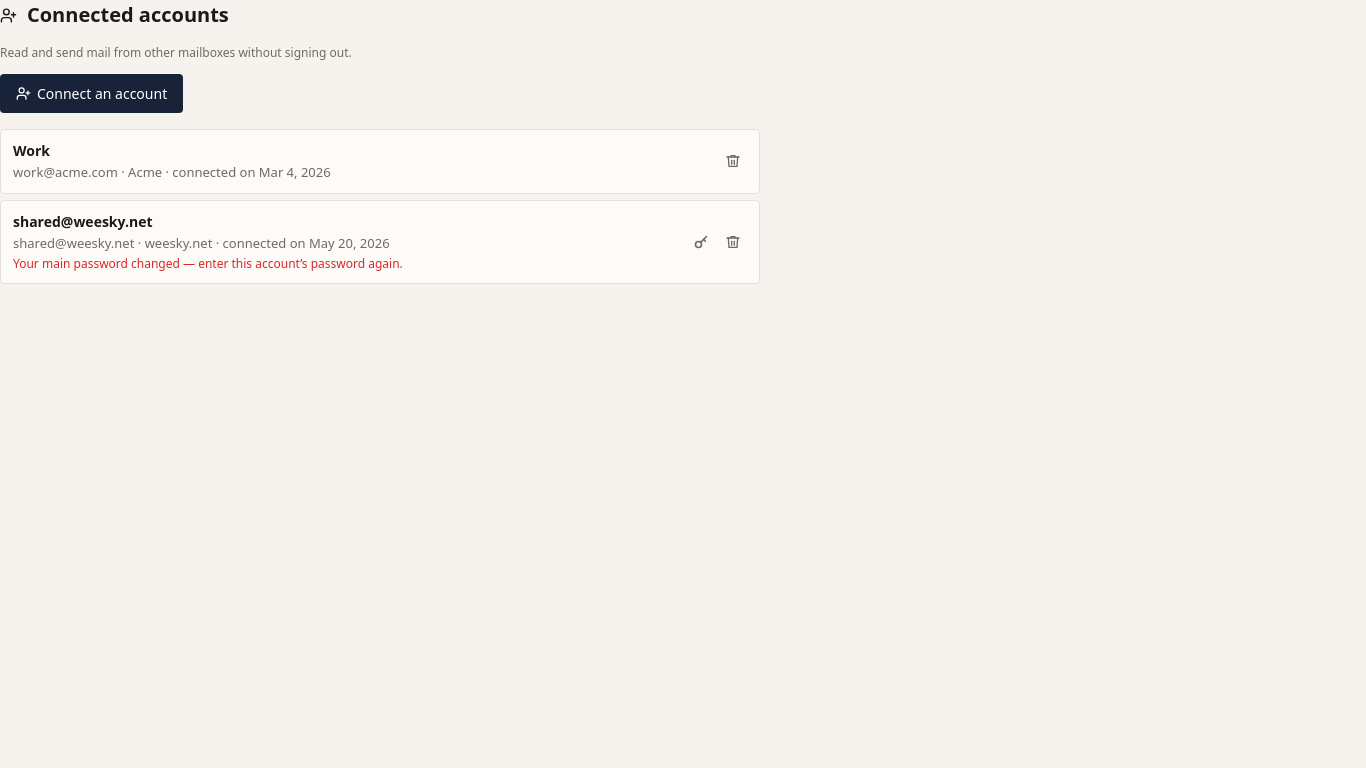
Test case: ConnectedAccountsPage › gives a vanished account a sentence instead of the backend code
Expected: the text "Work" is shown, 13,141 -> 50,160
Step 1. Click the button named "Re-enter the password for shared@weesky.net" → [701, 242], box 687,228 -> 715,256
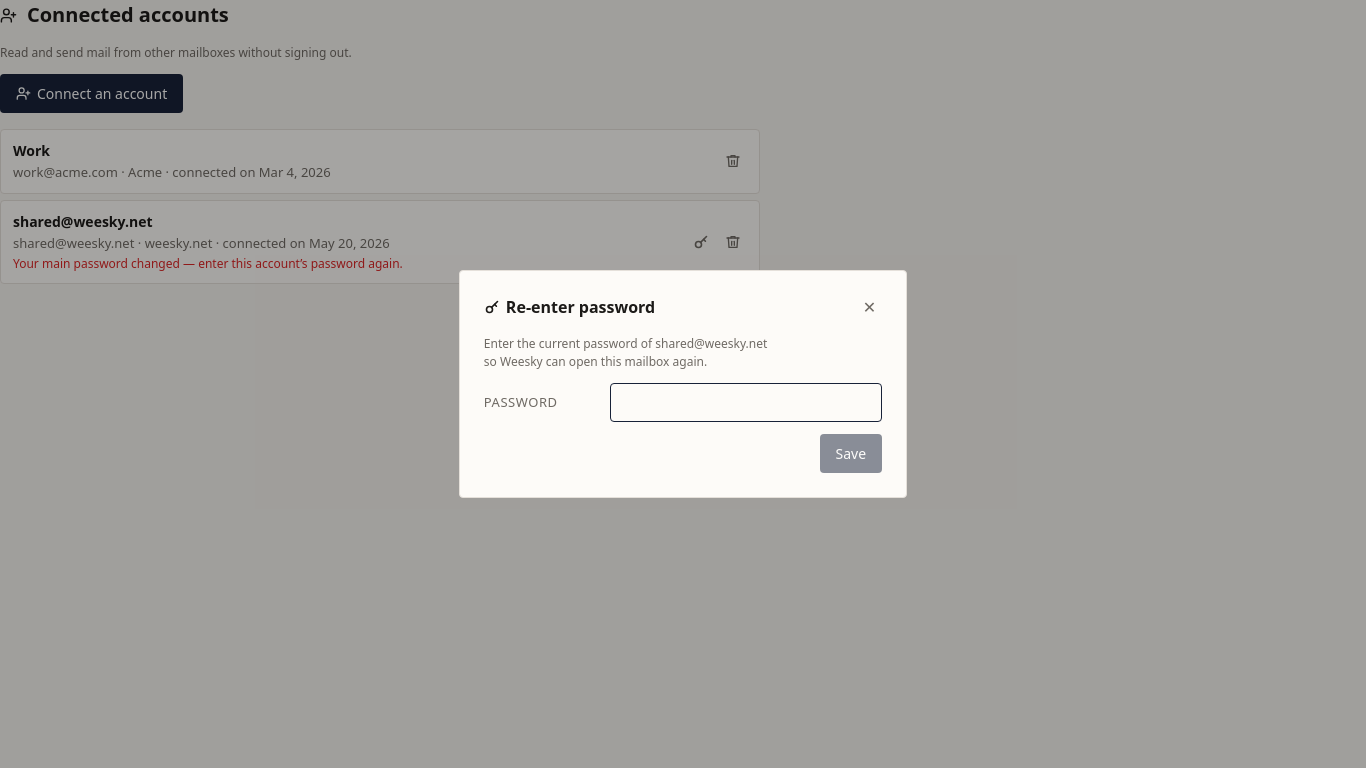
Step 2. Type "anything" into the password field labelled "Password" → [746, 402], box 610,383 -> 882,422
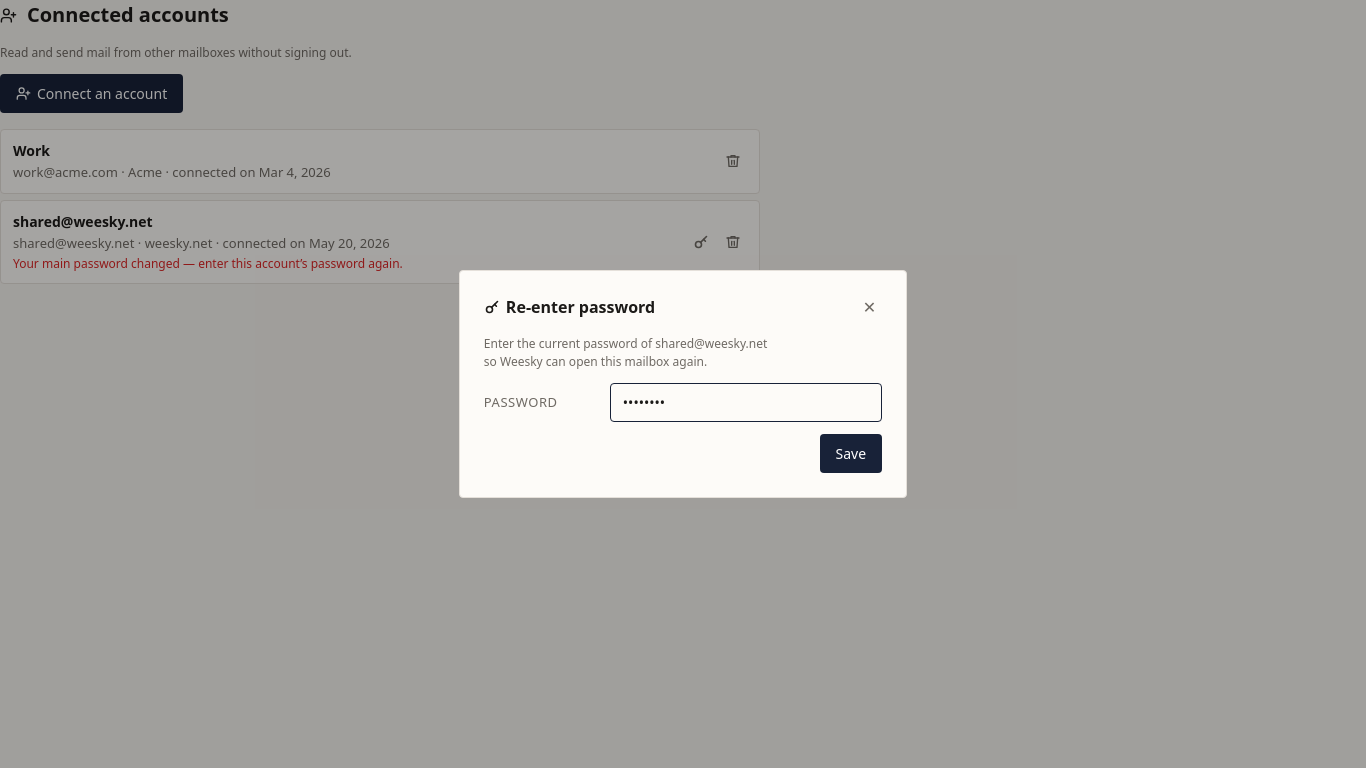
Step 3. Click the button "Save" → [851, 454], box 820,434 -> 882,473
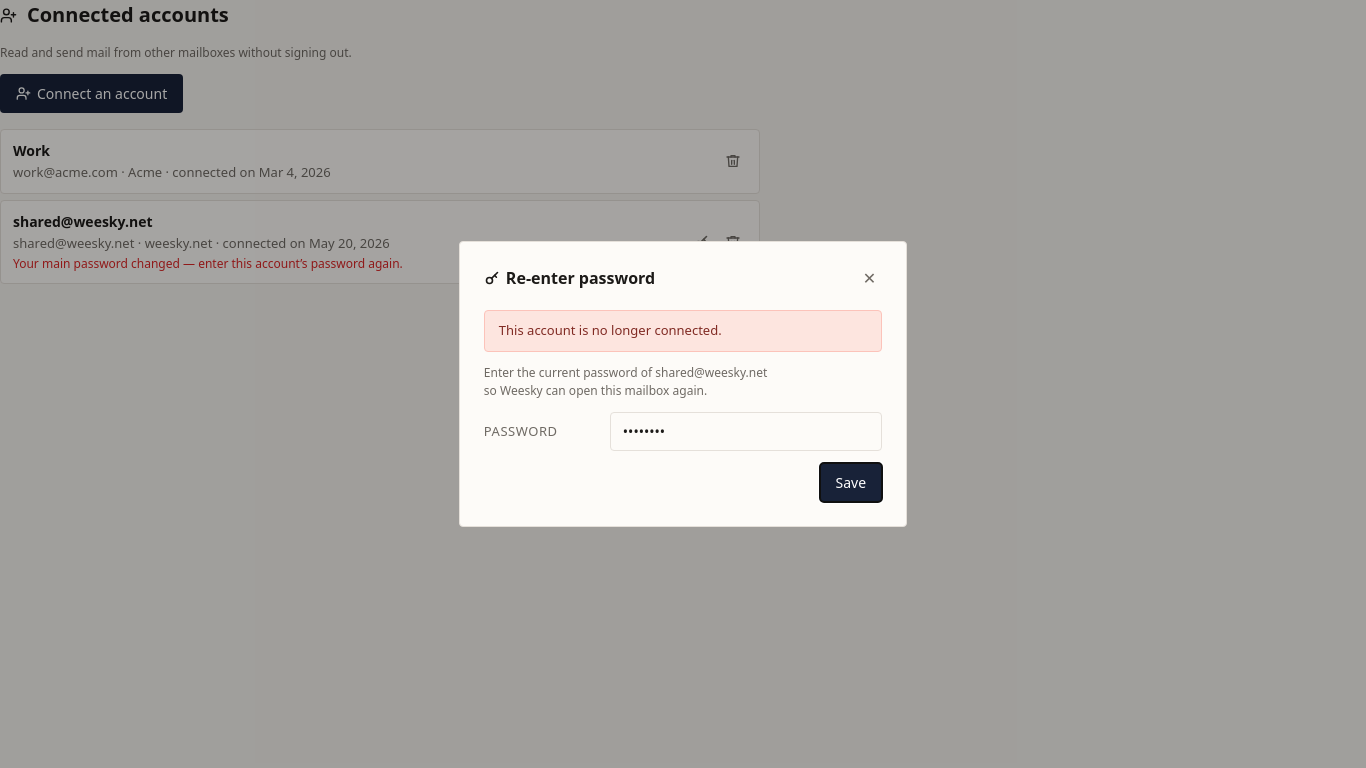
Now the message reads "This account is no longer connected.", box 499,321 -> 722,339
